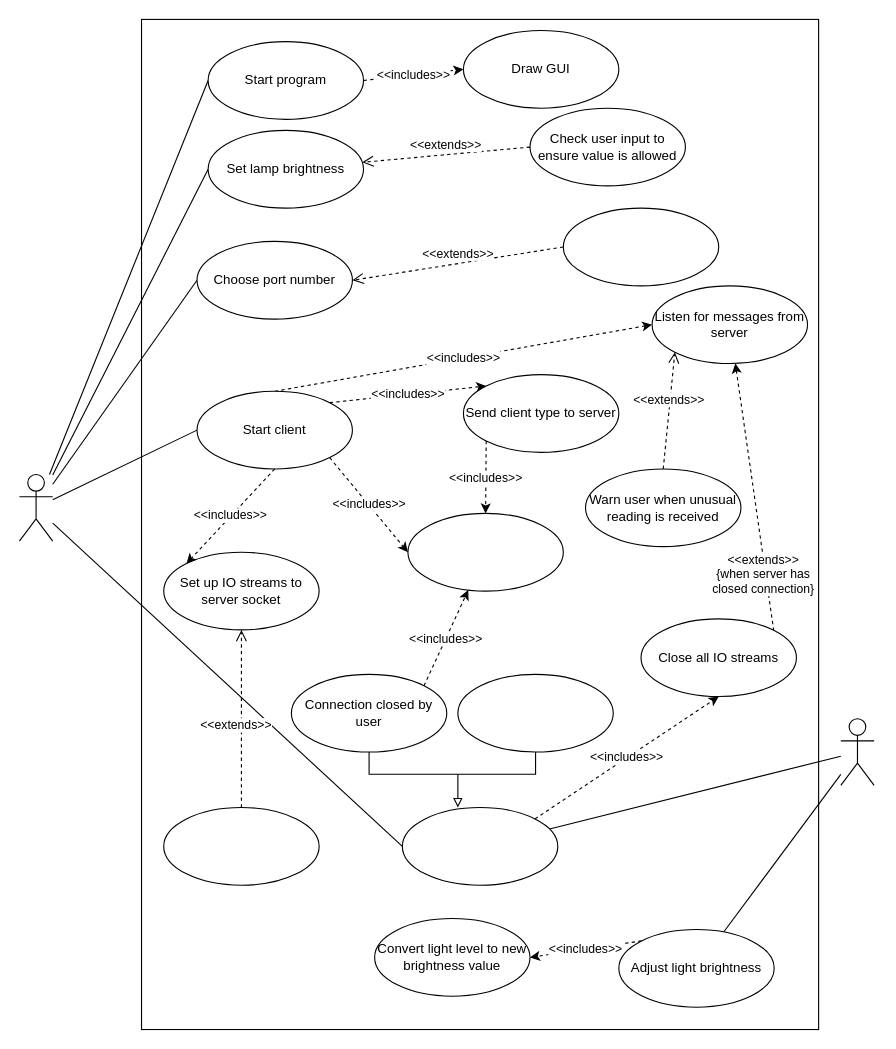
Image size: 896x1049. Some labels were removed from this diagram. Each missing label, with the box of its shape:
Check user input to ensure port number is allowed: (562, 207, 719, 286)
Connection closed by server: (457, 673, 613, 752)
Let user know when no server is available to connect to: (163, 806, 319, 885)
Send messages to the server: (407, 512, 563, 591)
Server: (840, 718, 874, 785)
Stop Client: (401, 806, 558, 885)
User: (18, 473, 53, 541)
